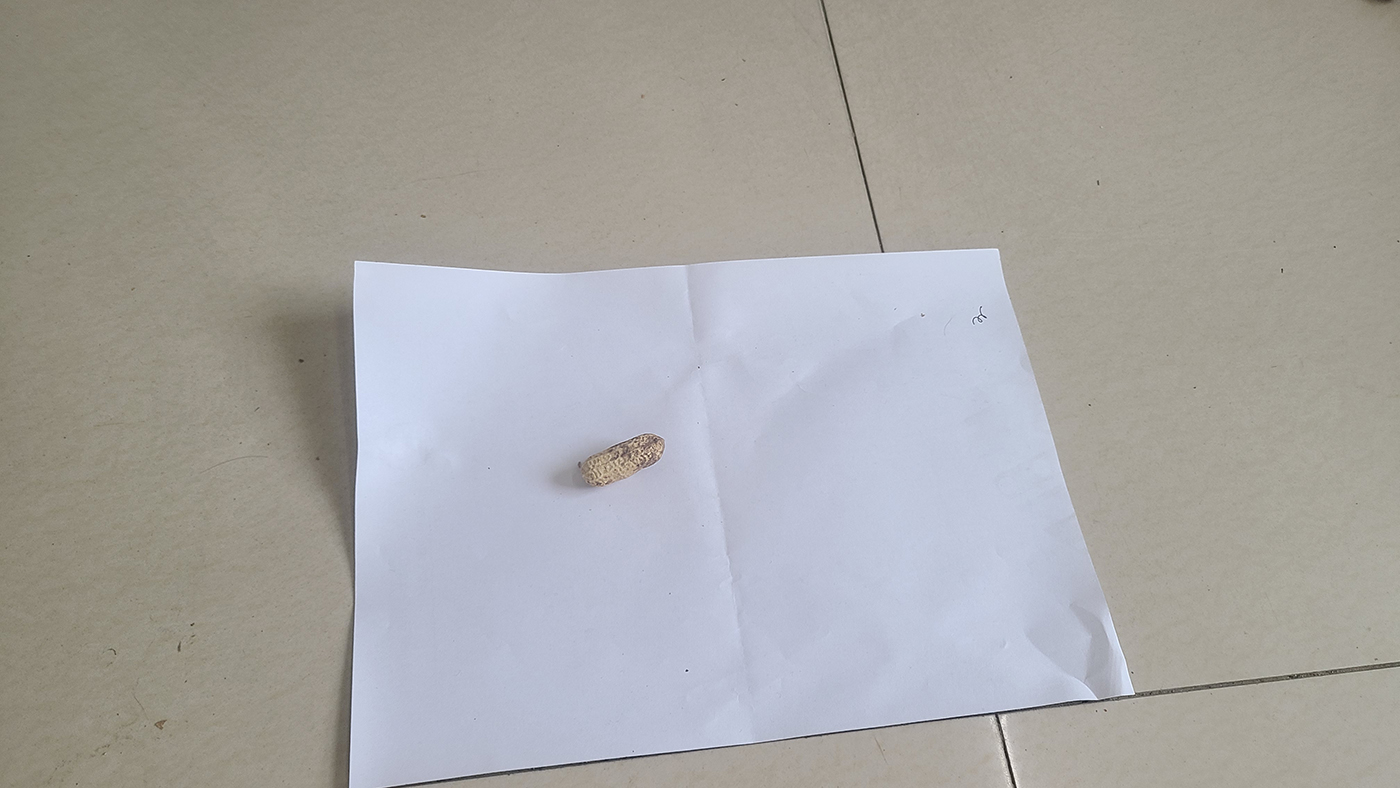h: (581, 432, 665, 487)
